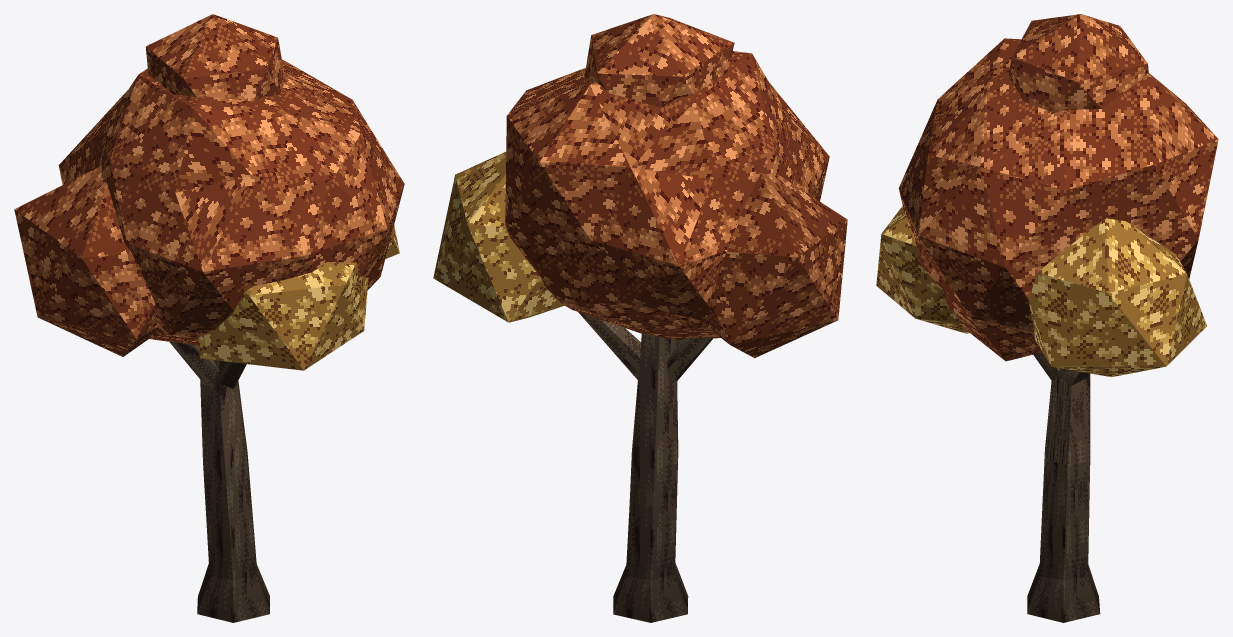
Rendered from tree_autumn.glb.
3 renders of one model, left to right at view 1: azimuth 30°, elevation 25°; view 2: azimuth 150°, elevation 25°; view 3: azimuth 270°, elevation 25°, orthographic. The views are drawn at different scales.
Visible parts, largest first — view 1: tree_autumn; view 2: tree_autumn; view 3: tree_autumn.
Boxes of the visible parts, x1=… form: tree_autumn: x1=14, y1=14, x2=404, y2=622; tree_autumn: x1=433, y1=14, x2=847, y2=622; tree_autumn: x1=876, y1=14, x2=1218, y2=622.
Bounding box in the file's own units: 3.68 × 5.75 × 3.05.
Materials: 3 (3 with a texture image).
